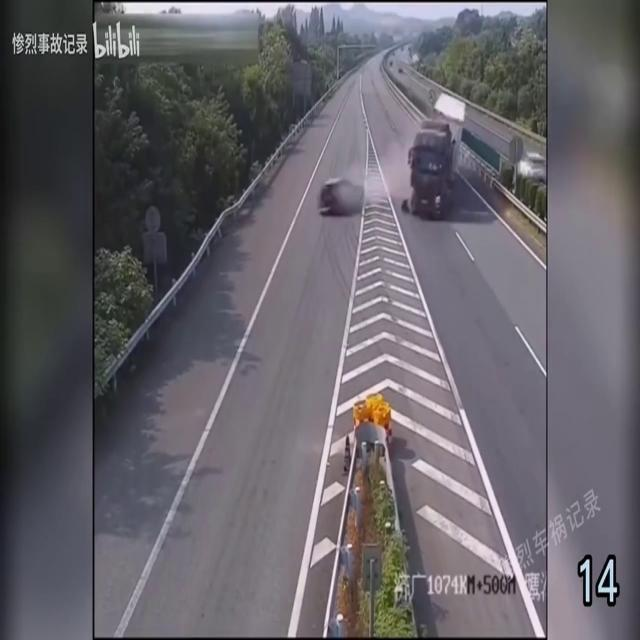accident: (318, 93, 467, 221)
